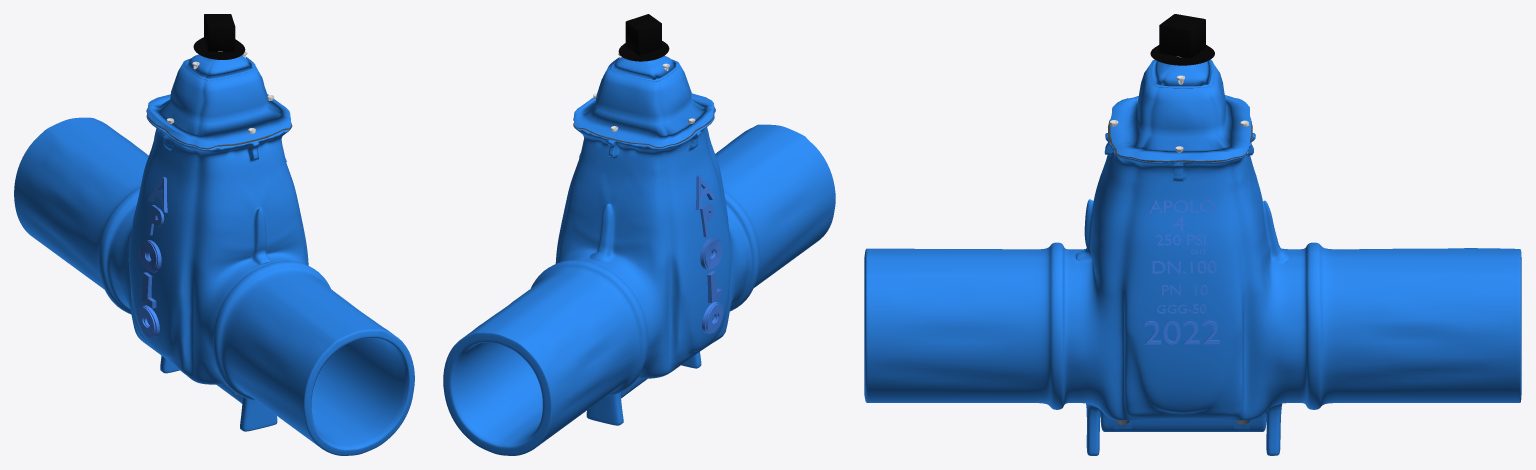
The model's file is union.fbx.
The picture shows the model from 3 angles, left to right: view 1: azimuth 30°, elevation 25°; view 2: azimuth 150°, elevation 25°; view 3: azimuth 270°, elevation 25°; orthographic projection. The views are drawn at different scales.
Visible parts, largest first — view 1: union; view 2: union; view 3: union.
Part boxes in pixels (left/top/right/bottom): union: left=14, top=14, right=414, bottom=455; union: left=443, top=14, right=835, bottom=455; union: left=864, top=14, right=1521, bottom=455.
Bounding box in the file's own units: 20 × 50 × 70.
